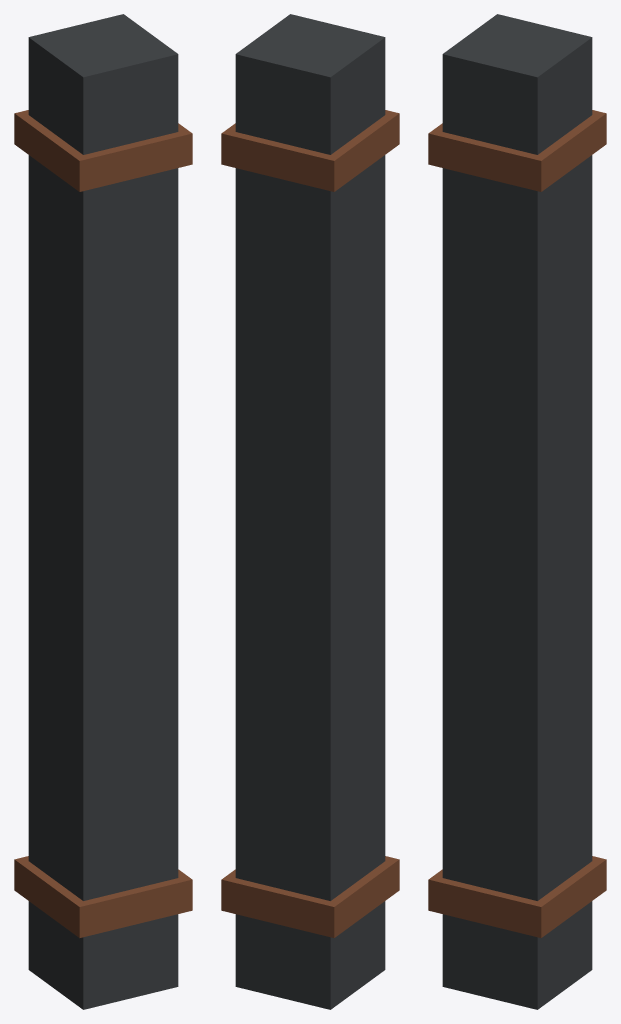
File: SM_Pillar.fbx
3 renders of one model, left to right at view 1: azimuth 30°, elevation 25°; view 2: azimuth 150°, elevation 25°; view 3: azimuth 330°, elevation 25°, orthographic.
Visible parts, largest first — view 1: SM_Pillar; view 2: SM_Pillar; view 3: SM_Pillar.
Boxes of the visible parts, left/top/right/bottom form: SM_Pillar: left=14, top=14, right=192, bottom=1009; SM_Pillar: left=221, top=14, right=399, bottom=1009; SM_Pillar: left=428, top=14, right=606, bottom=1009.
Size of what is drawn, in the model's own units: 0.38 by 3 by 0.38.
